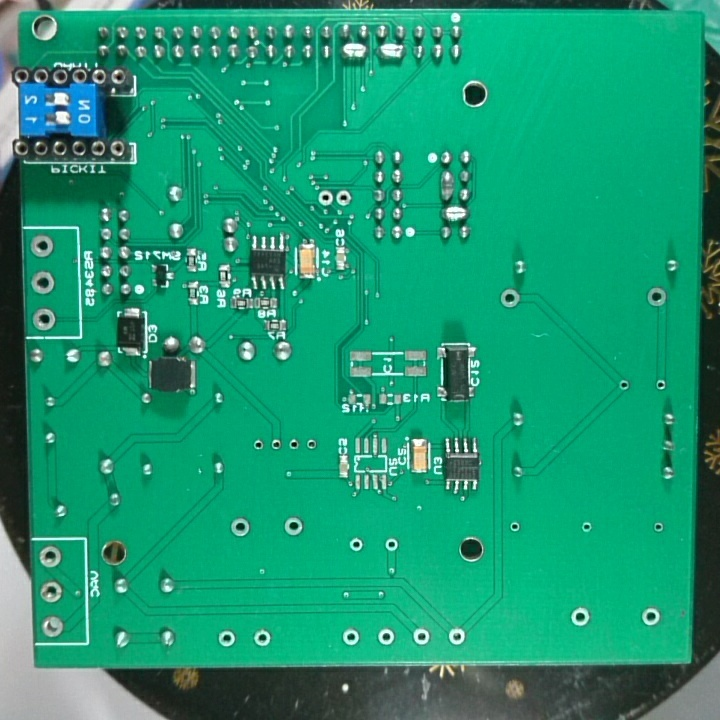F: (36, 576, 66, 609), (29, 304, 58, 334), (39, 612, 67, 641), (28, 232, 55, 262), (36, 543, 63, 572), (281, 512, 307, 541), (29, 269, 55, 298), (226, 515, 254, 541), (644, 283, 668, 311), (568, 605, 594, 630), (498, 285, 522, 311), (639, 603, 663, 629), (409, 625, 433, 650), (251, 626, 276, 650), (375, 626, 399, 650), (445, 624, 468, 649), (340, 626, 362, 649), (215, 627, 237, 650), (334, 187, 354, 209), (250, 434, 268, 458), (314, 188, 334, 209), (302, 434, 320, 456), (382, 533, 399, 556), (347, 535, 365, 556), (285, 434, 303, 454), (268, 433, 285, 454), (616, 376, 634, 395), (577, 517, 595, 535), (650, 518, 667, 537), (505, 518, 522, 535), (653, 376, 668, 395)
P: (372, 40, 408, 63), (337, 40, 369, 64), (438, 203, 472, 224), (438, 167, 456, 206)
